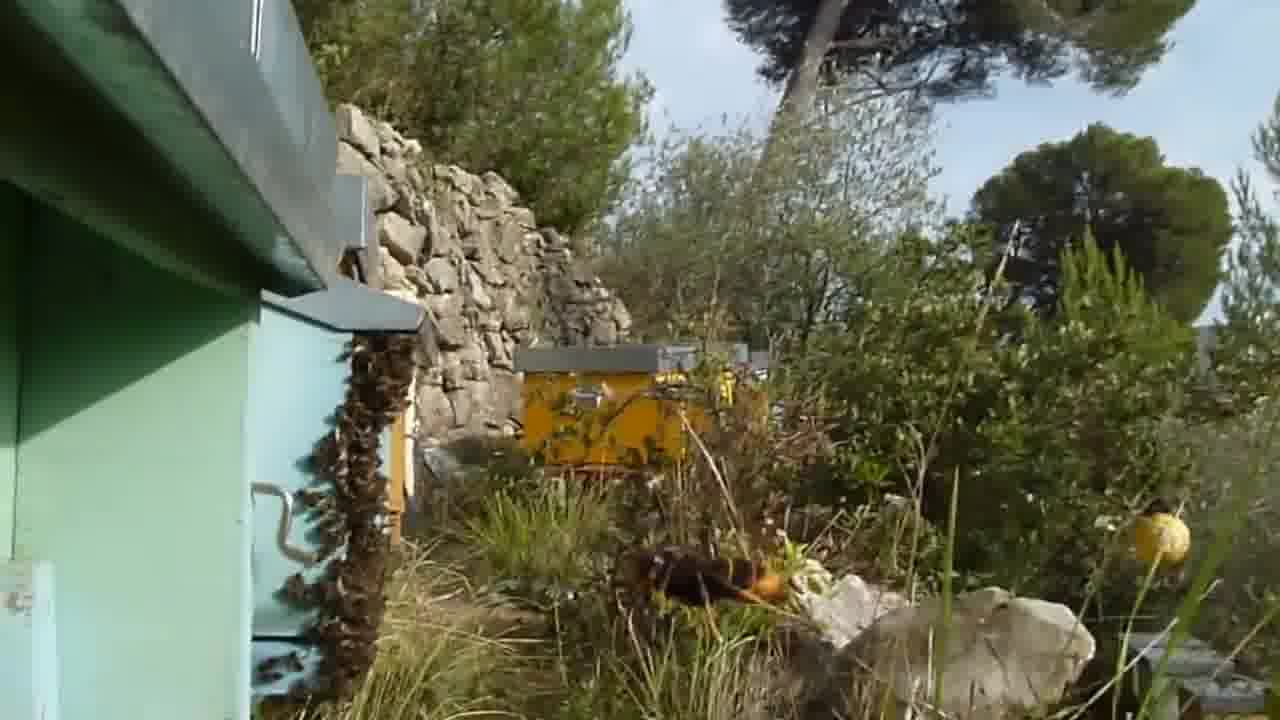bee: (291, 541, 382, 671), (300, 427, 393, 544), (342, 337, 427, 424)
hornet: (635, 538, 785, 630)
